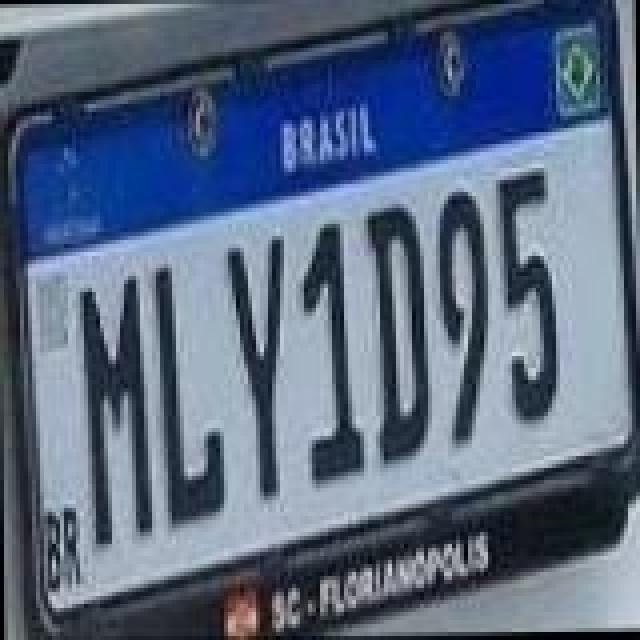1: (300, 222, 364, 486)
5: (496, 170, 560, 422)
9: (436, 188, 492, 444)
D: (366, 204, 434, 468)
L: (154, 264, 226, 528)
M: (82, 276, 154, 548)
Y: (226, 236, 286, 500)
